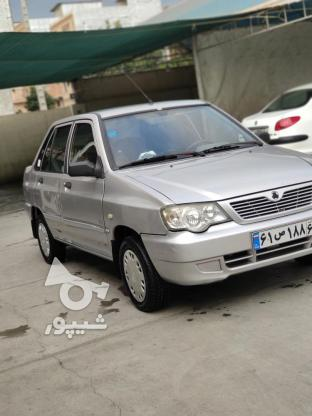car: (250, 219, 312, 251)
